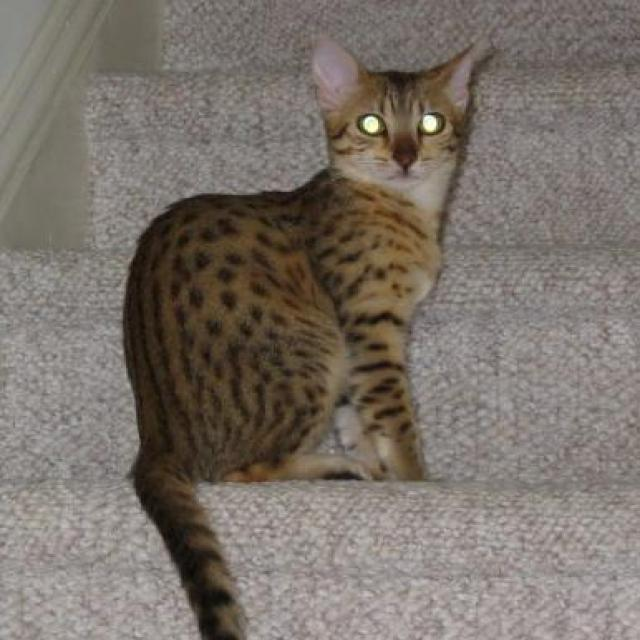Egyptian_Mau: (310, 29, 474, 186)
